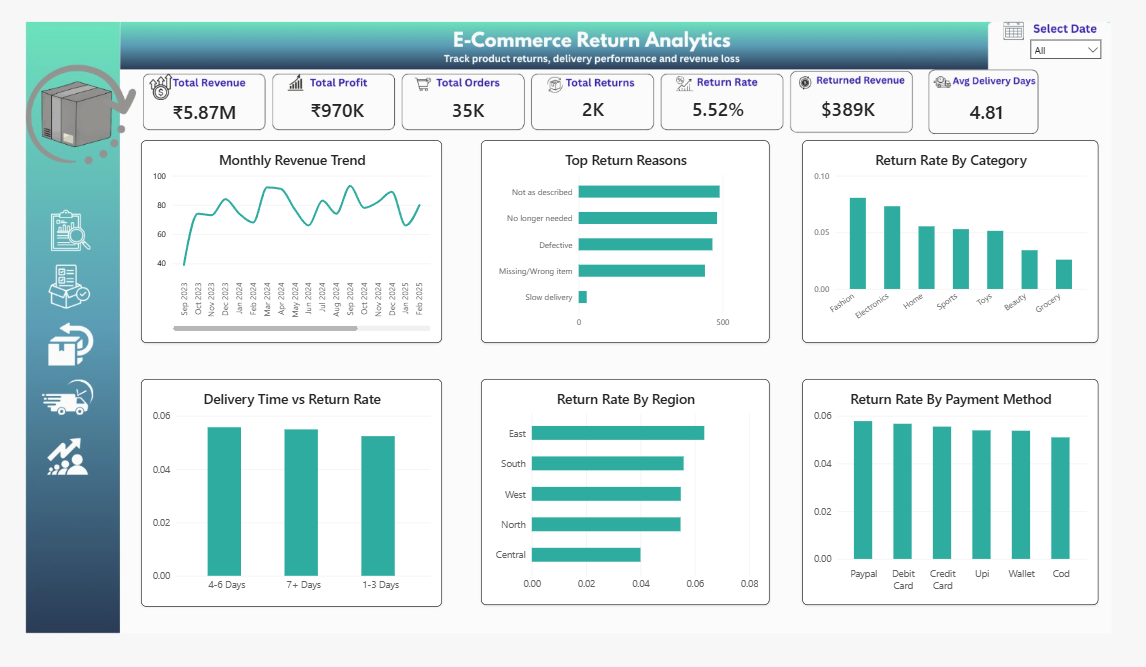

The page's visual inventory and layout, read from the dashboard file:
{"tool":"powerbi","page":{"name":"Executive Overview","canvas":[1920,1080],"ordinal":0},"visuals":[{"type":"cardVisual","fields":{"Data":["orders.Total Orders"]},"box":[773.9,193.5,76.2,39.1],"z":0},{"type":"cardVisual","fields":{"Data":["returns.Total Returns"]},"box":[959.2,191.4,76.2,39.1],"z":1000},{"type":"cardVisual","fields":{"Data":["returns.Return Rate"]},"box":[1123.8,191.4,113.2,39.1],"z":2000},{"type":"cardVisual","fields":{"Data":["returns.Returned Revenue"]},"box":[1317.3,189.4,109.1,43.2],"z":3000},{"type":"cardVisual","fields":{"Data":["orders.Avg Delivery Days"]},"box":[1535.5,193.5,82.3,43.2],"z":4000},{"type":"cardVisual","fields":{"Data":["orders.Total Revenue"]},"box":[349.7,193.3,150.9,44.2],"z":5000},{"type":"cardVisual","fields":{"Data":["orders.Total Profit"]},"box":[566,193.5,107,39.1],"z":6000},{"type":"slicer","fields":{"Values":["orders.order_date"]},"box":[1636.2,106.7,114.1,38.7],"z":7000},{"type":"lineChart","title":"Monthly Revenue Trend","fields":{"Y":["returns.Total Returns"],"Category":["Date_Table.Year Month"]},"box":[331.3,259.5,443.6,298.2],"z":8000},{"type":"clusteredBarChart","title":"Top Return Reasons","fields":{"Y":["returns.Total Returns"],"Category":["returns.return_reason"]},"box":[831.9,259.5,425.2,298.2],"z":9000},{"type":"clusteredColumnChart","title":"Return Rate By Category","fields":{"Category":["products.category"],"Y":["returns.Return Rate"]},"box":[1304.9,259.5,436.2,298.2],"z":10000},{"type":"barChart","title":"Return Rate By Region","fields":{"Y":["returns.Return Rate"],"Category":["customers.region"]},"box":[831.9,611,425.2,333.1],"z":11000},{"type":"columnChart","title":"Return Rate By Payment Method","fields":{"Category":["orders.payment_method"],"Y":["returns.Return Rate"]},"box":[1304.9,611,436.2,333.1],"z":12000},{"type":"clusteredColumnChart","title":"Delivery Time vs Return Rate","fields":{"Y":["returns.Return Rate"],"Category":["orders.Delivery Range"]},"box":[331.3,611,443.6,335],"z":13000}]}

Visuals, with their boxes on the page's 1920x1080 design canvas (x1, y1, x2, y2). These are canvas units, not pixel positions in the 1146x667 screenshot, which may show the page scaled, cropped or inside an application window:
cardVisual - orders.Total Orders: 774,194,850,233
cardVisual - returns.Total Returns: 959,191,1035,230
cardVisual - returns.Return Rate: 1124,191,1237,230
cardVisual - returns.Returned Revenue: 1317,189,1426,233
cardVisual - orders.Avg Delivery Days: 1536,194,1618,237
cardVisual - orders.Total Revenue: 350,193,501,238
cardVisual - orders.Total Profit: 566,194,673,233
slicer - orders.order_date: 1636,107,1750,145
"Monthly Revenue Trend" lineChart: 331,260,775,558
"Top Return Reasons" clusteredBarChart: 832,260,1257,558
"Return Rate By Category" clusteredColumnChart: 1305,260,1741,558
"Return Rate By Region" barChart: 832,611,1257,944
"Return Rate By Payment Method" columnChart: 1305,611,1741,944
"Delivery Time vs Return Rate" clusteredColumnChart: 331,611,775,946
